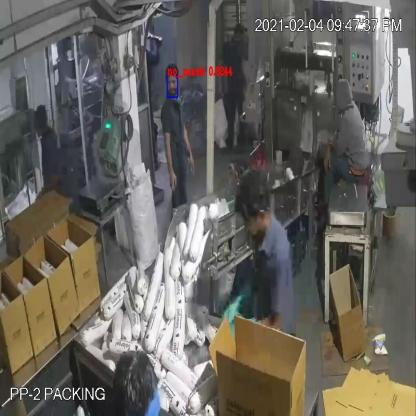glove: (220, 266, 255, 328)
no_glove: (180, 119, 201, 184), (162, 127, 180, 198), (32, 175, 62, 199), (321, 142, 336, 176)
